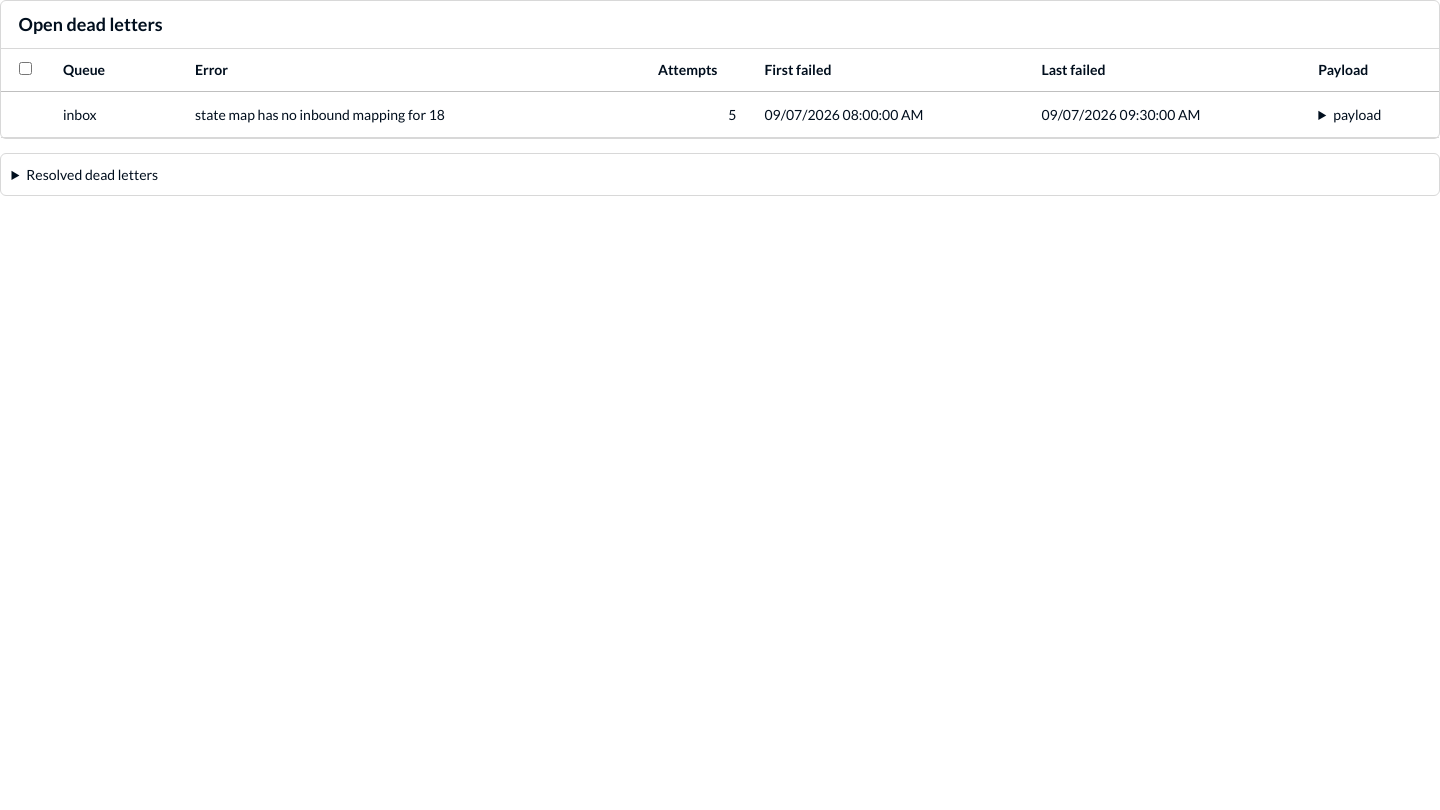
Test: DeadLettersTab › requires a reason to discard and sends it with the ids
Expected: the text "state map has no inbound mapping for 18" is shown, [195, 106, 445, 123]
Click the checkbox named "Select 44444444-4444-4444-8444-444444444441" at {"x": 25, "y": 114}, box [1, 91, 49, 138]
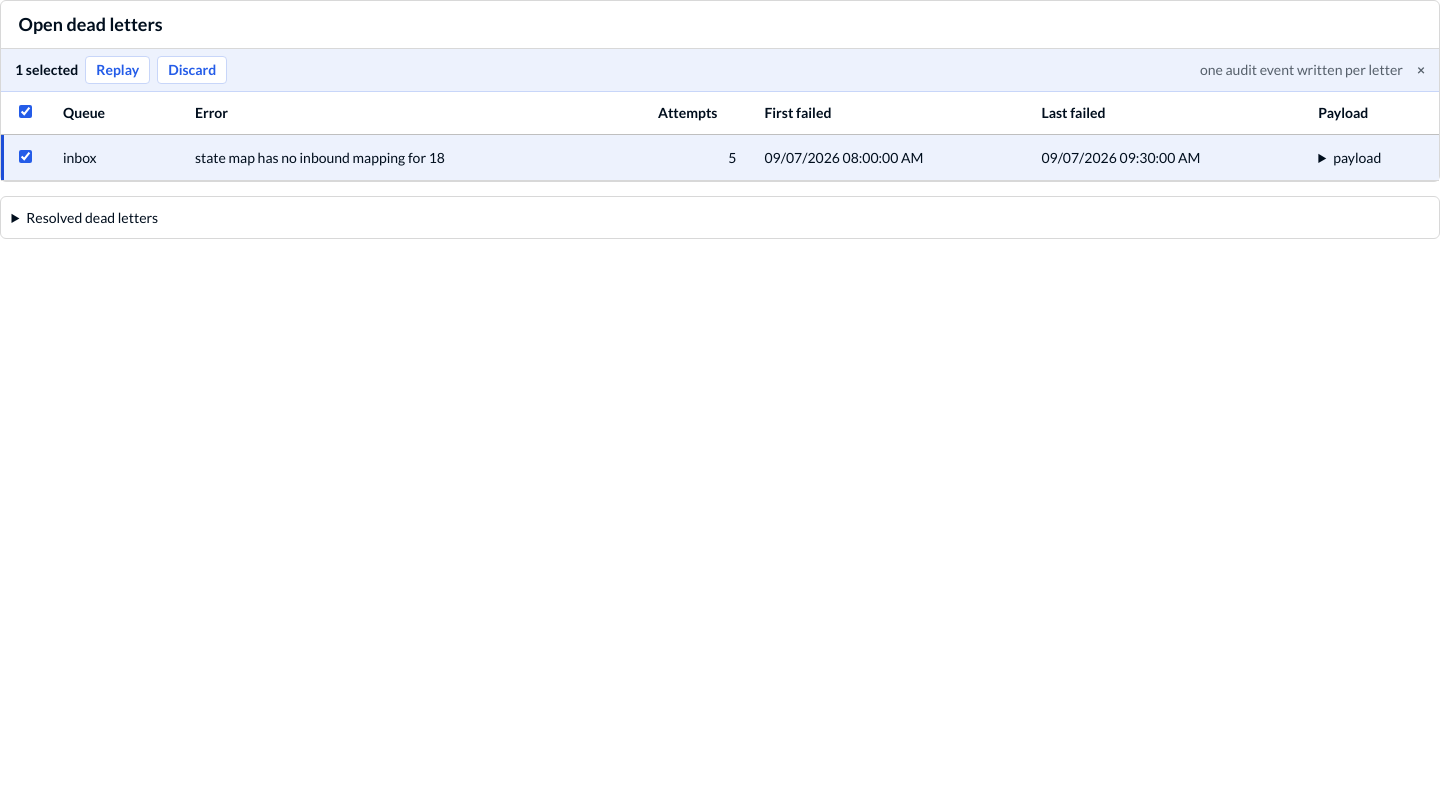
Click the button "Discard" at {"x": 192, "y": 70}, box [157, 56, 227, 84]
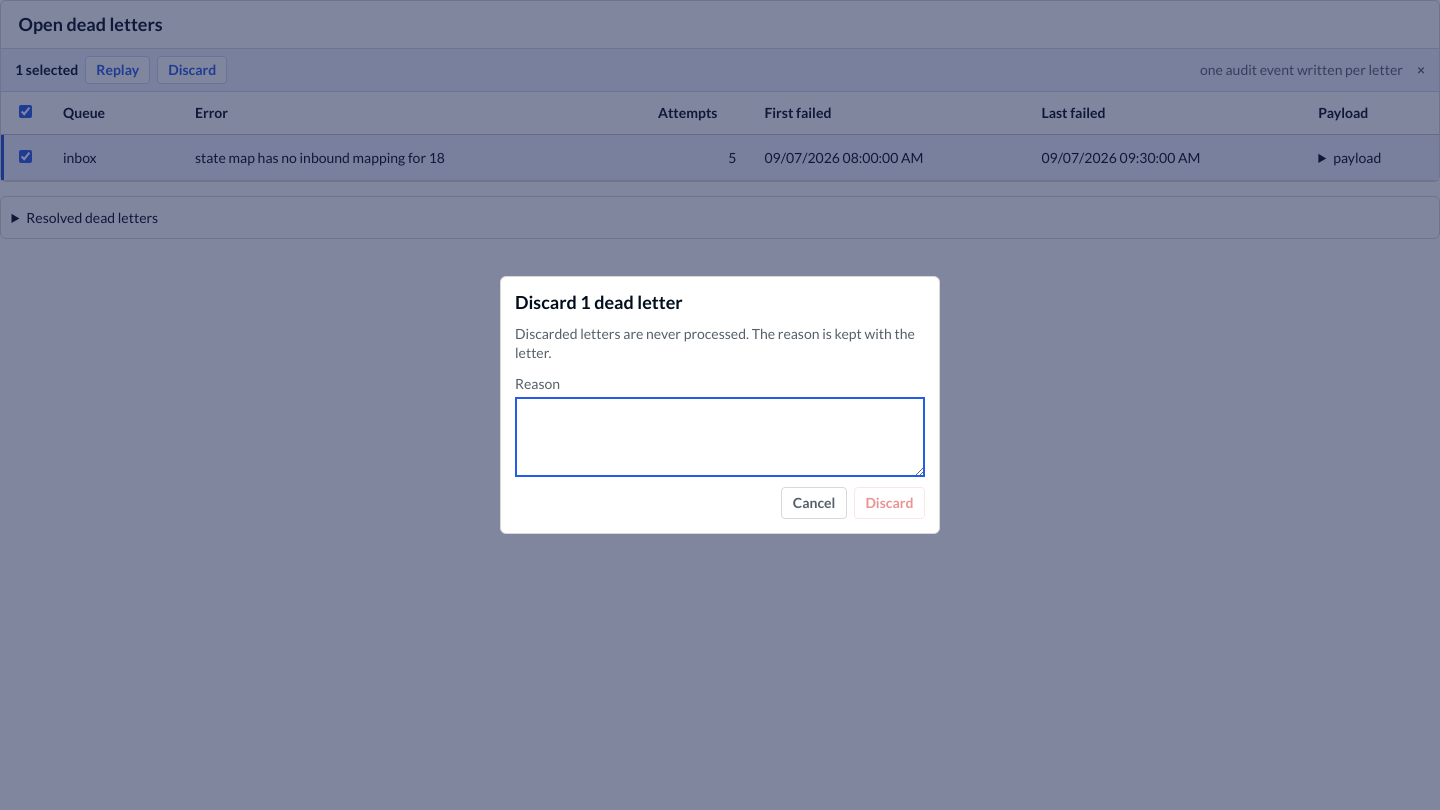
Expected: the button "Discard" is disabled, [854, 487, 925, 519]
Type "Duplicate of CS0001" into the text box labelled "Reason" at {"x": 720, "y": 437}, box [515, 397, 925, 477]
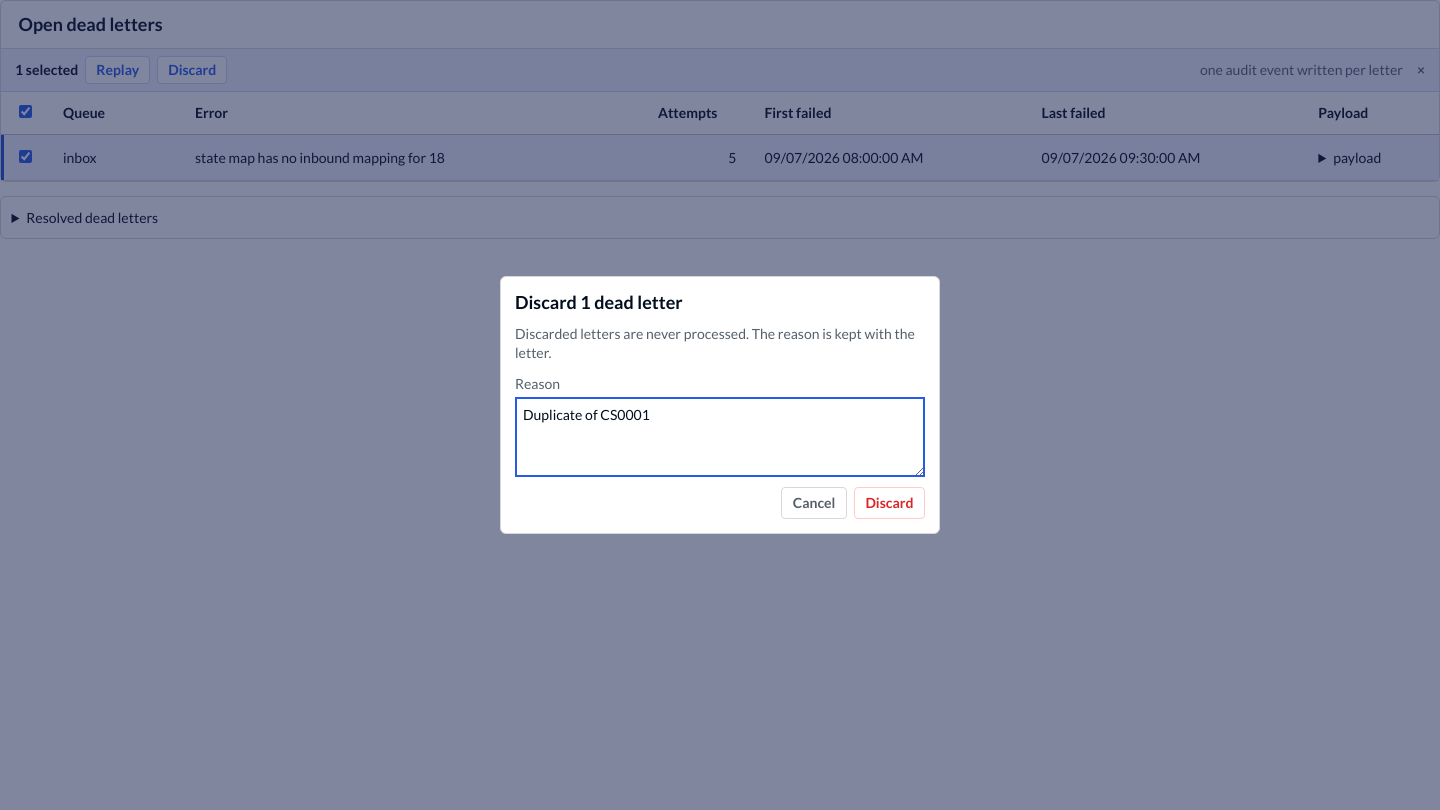
Expected: the button "Discard" is enabled
Click the button "Discard" at {"x": 889, "y": 503}, box [854, 487, 925, 519]
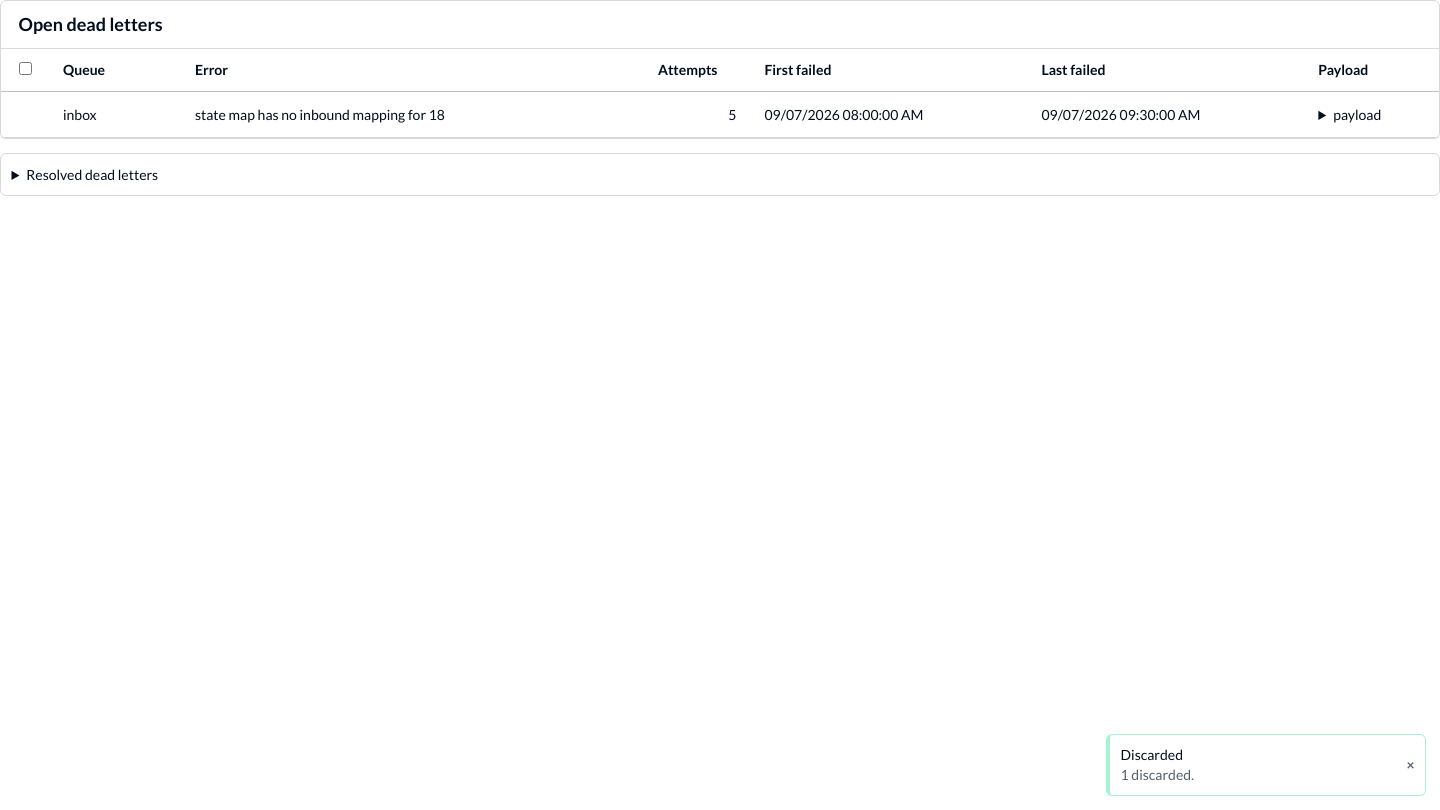
Expected: the text "1 discarded." is shown, [1120, 765, 1194, 784]
